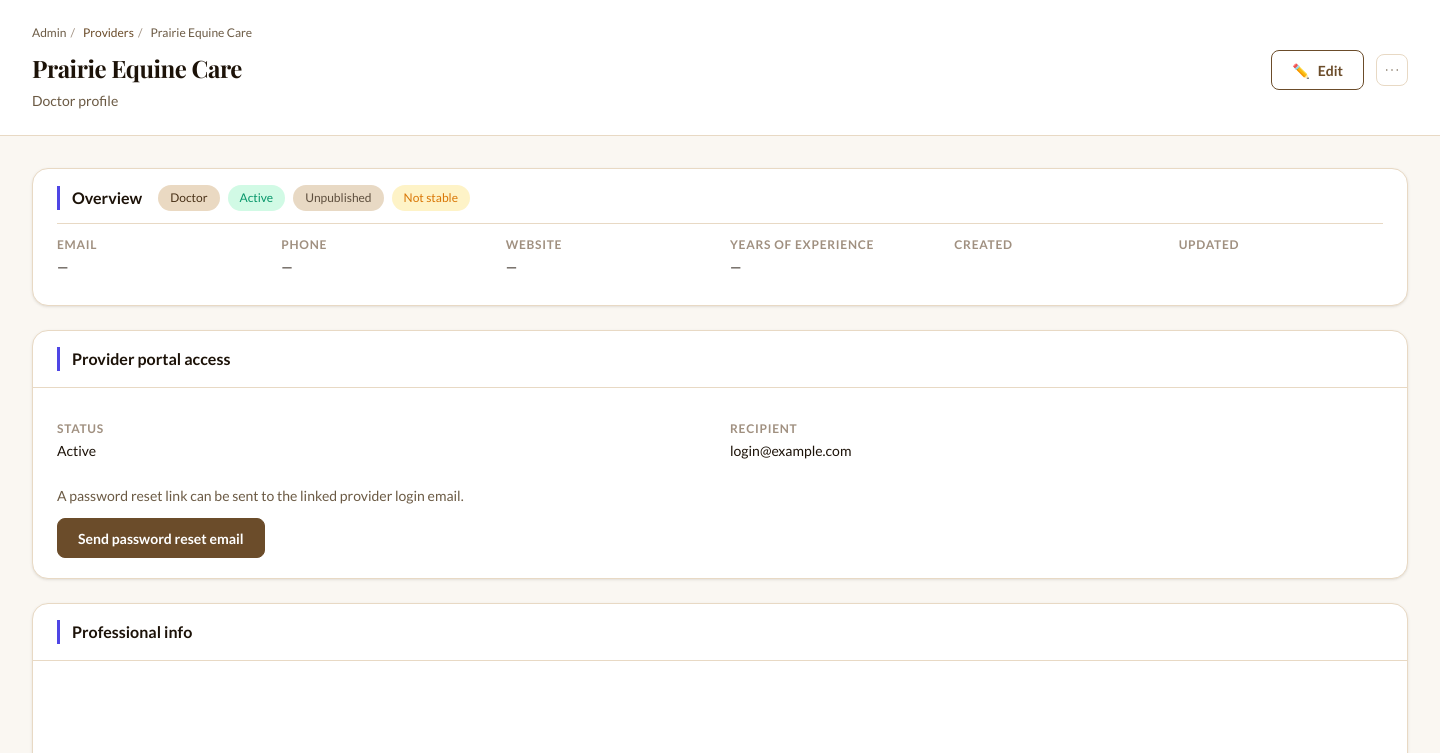
it: ProviderDetailPage doctor visits › offers password reset to a linked login email without a contact-email selector
Expected: the text "login@example.com" is shown, [730,442,851,459]
What coordinates should you click on to do the following:
click the button "Send password reset email"
I would click on:
 (161, 538)
Its box is [57,518,265,558].
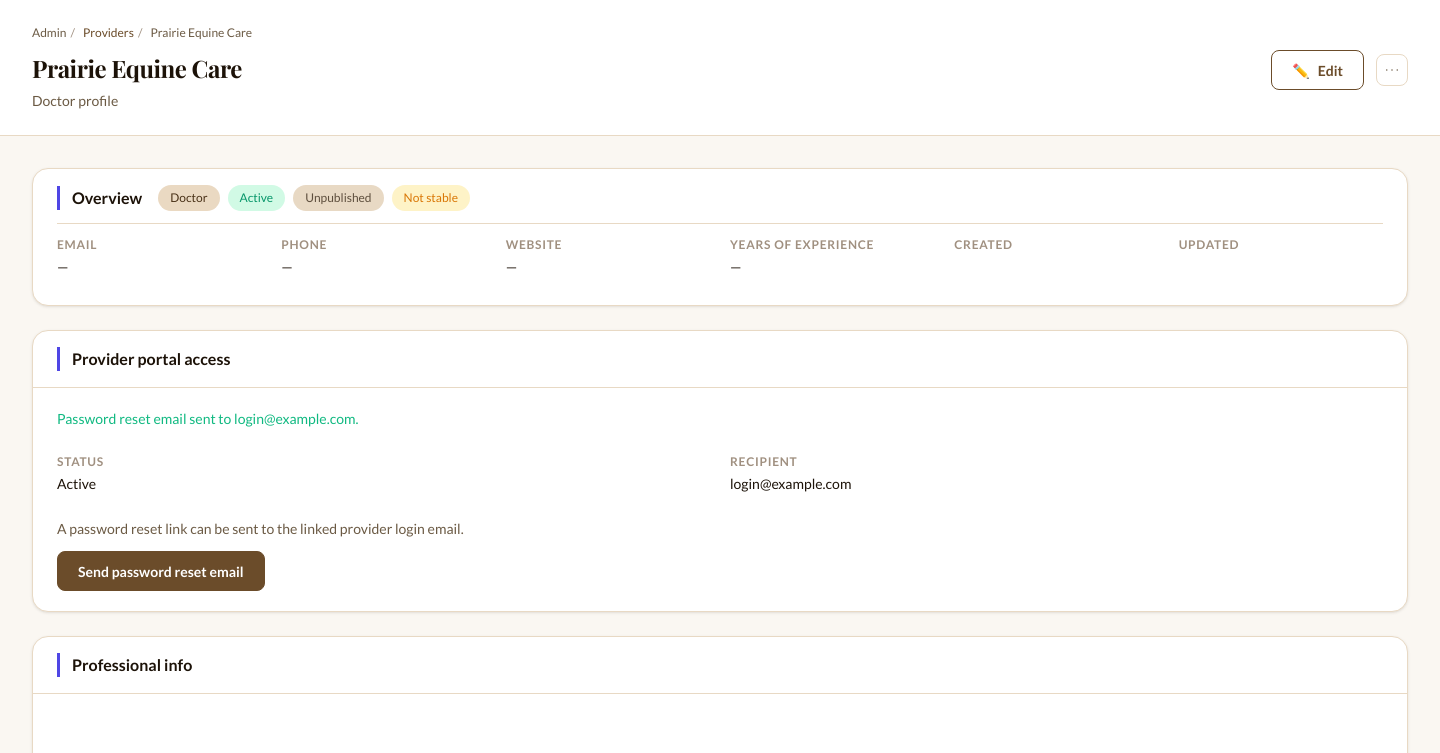
Now the text "Password reset email sent to login@example.com." is shown, box [57,410,358,427]
